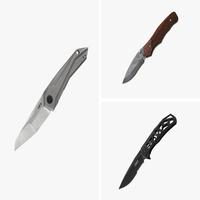knife: (10, 39, 92, 153), (116, 112, 178, 193), (118, 9, 182, 86)
